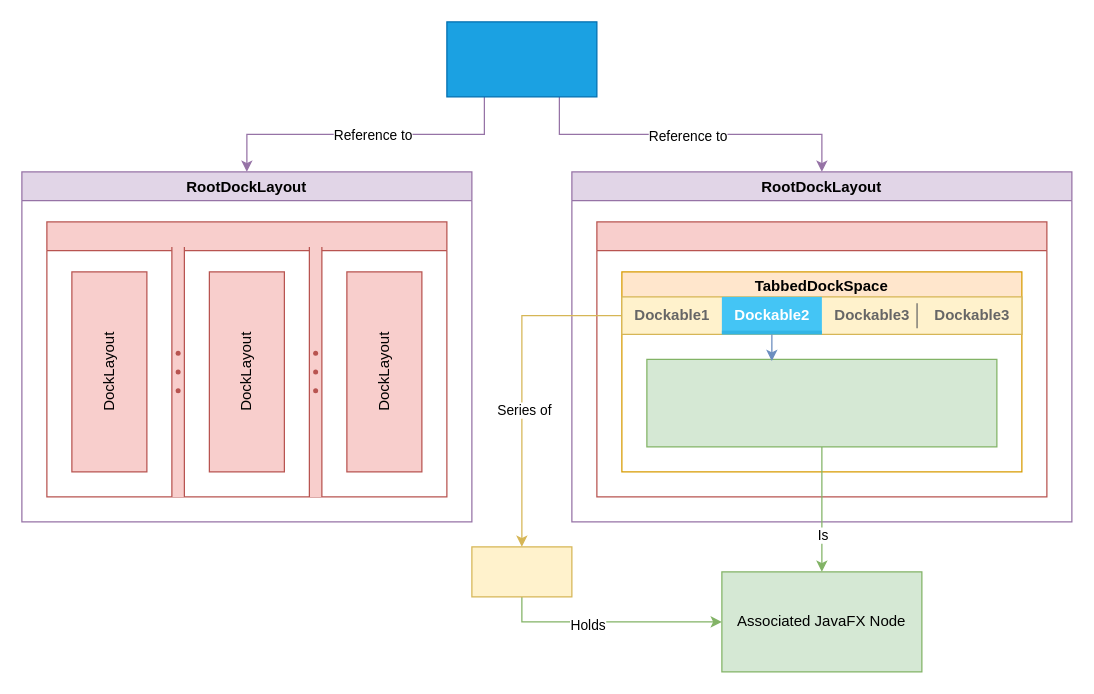
Some shapes in this 1094 by 694 pixel diagram are drawn without their labels. Here are the shapes that lost their labels. From the top down, the box of each, then its label:
(446, 21, 597, 97): Bento
(46, 221, 447, 497): SplitDockLayout
(596, 221, 1047, 497): SingleDockLayout
(646, 358, 997, 447): Selected Dockable's JavaFX Node
(471, 546, 572, 597): Dockable
